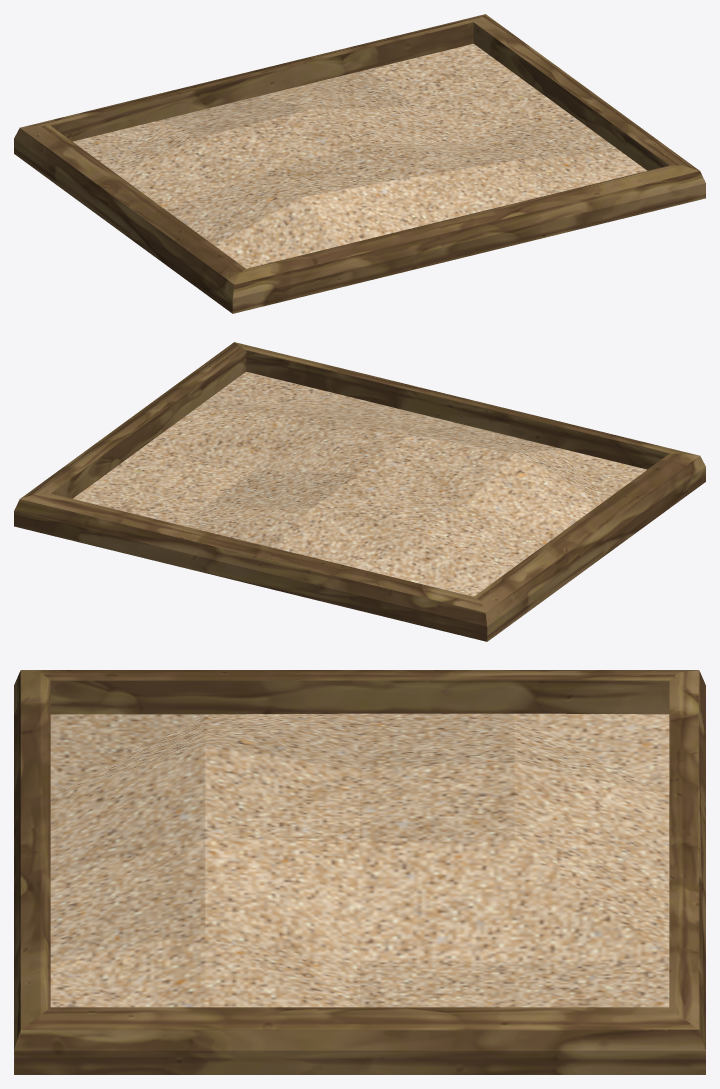
Rendered from SandBox_2.fbx.
3 renders of one model, top to bottom at view 1: azimuth 30°, elevation 25°; view 2: azimuth 150°, elevation 25°; view 3: azimuth 270°, elevation 25°, orthographic. The views are drawn at different scales.
Visible parts, largest first — view 1: Box018; view 2: Box018; view 3: Box018.
Boxes of the visible parts, box(x1,y1,x2,y2) form: Box018: box(14, 14, 705, 313); Box018: box(14, 342, 705, 641); Box018: box(14, 670, 705, 1074).
Bounding box in the file's own units: 4.51 × 3.61 × 0.3694.
